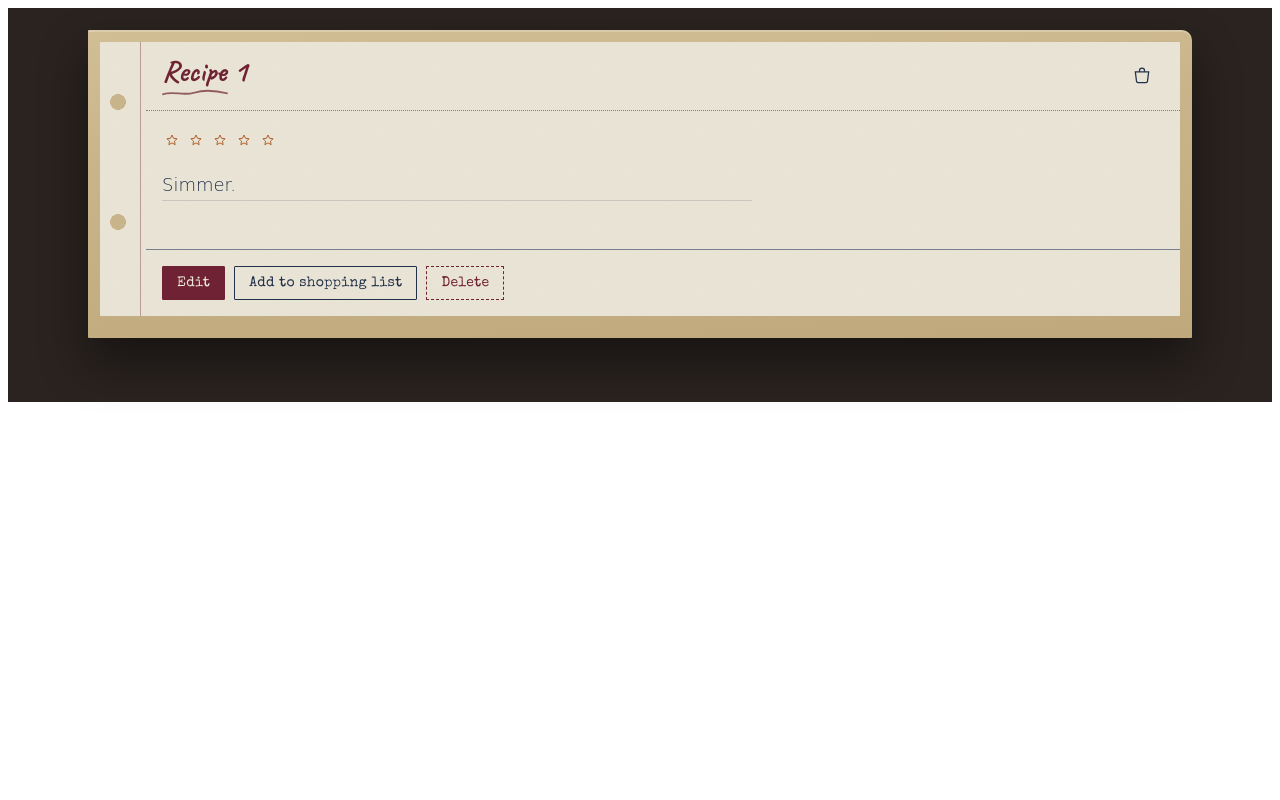
Test: edit and delete › puts the destructive verb on the danger button and never on the quiet one
Click the button with test id "delete". click: (466, 283)
box: [426, 266, 504, 300]
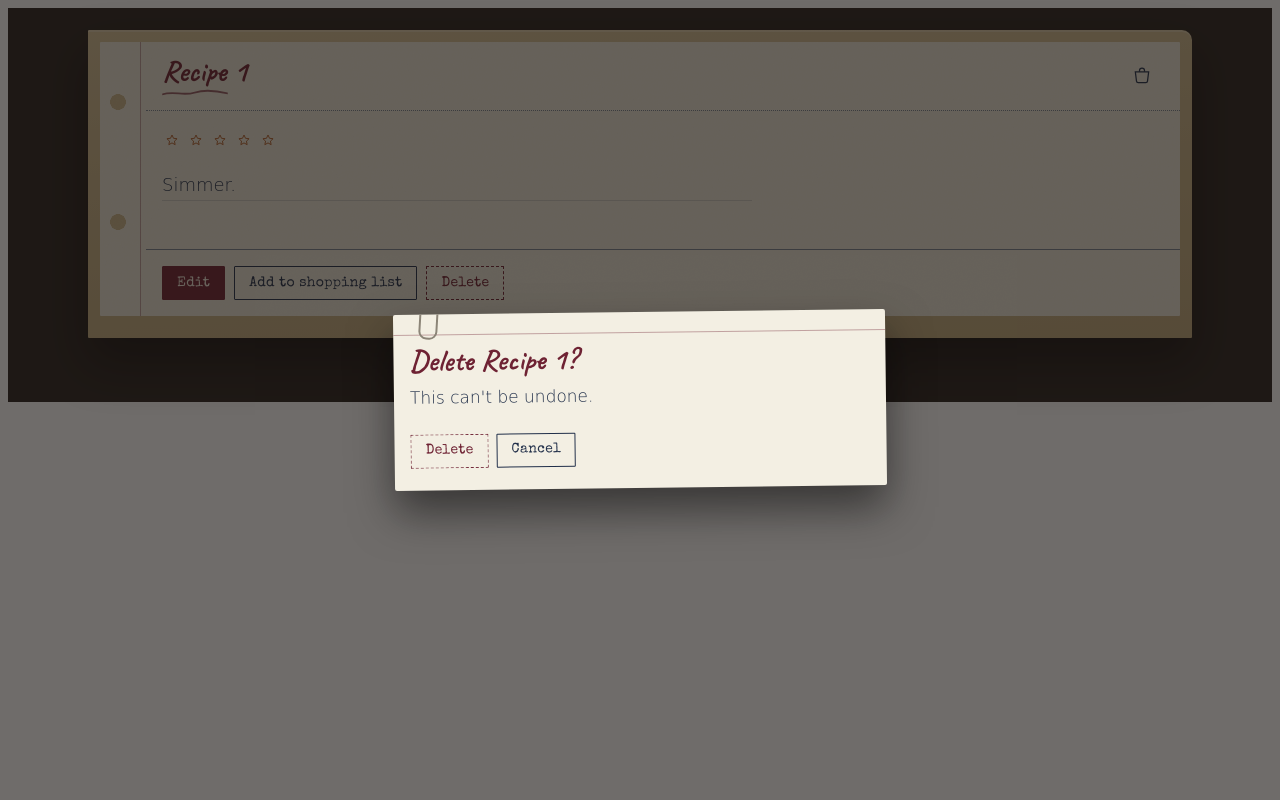
Expected: the button with test id "delete-cancel" reads "Cancel", [496, 433, 576, 468]
